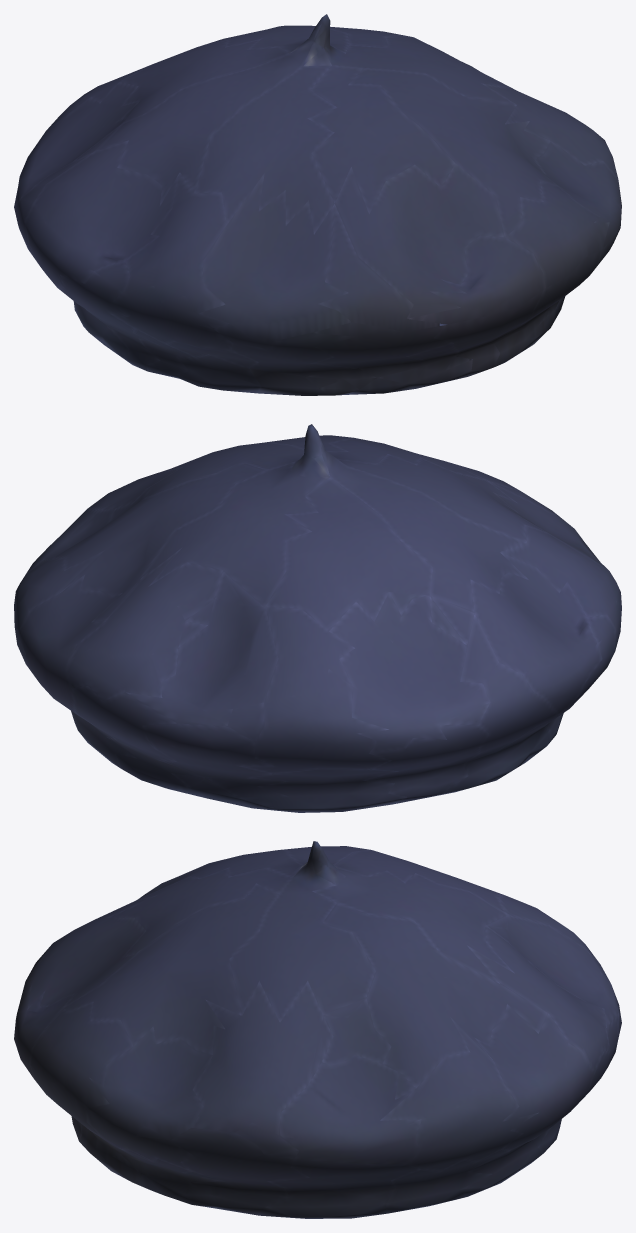
Rendered from 贝雷帽.fbx.
The picture shows the model from 3 angles, top to bottom: view 1: azimuth 30°, elevation 25°; view 2: azimuth 150°, elevation 25°; view 3: azimuth 270°, elevation 25°; orthographic projection.
Parts seen in each view (by area): view 1: geometry_0.003; view 2: geometry_0.003; view 3: geometry_0.003.
Part boxes in pixels (box(x1,y1,x2,y2)): geometry_0.003: box(14, 14, 621, 395); geometry_0.003: box(14, 424, 621, 812); geometry_0.003: box(14, 841, 621, 1218).
Bounding box in the file's own units: 101 × 51.81 × 101.
